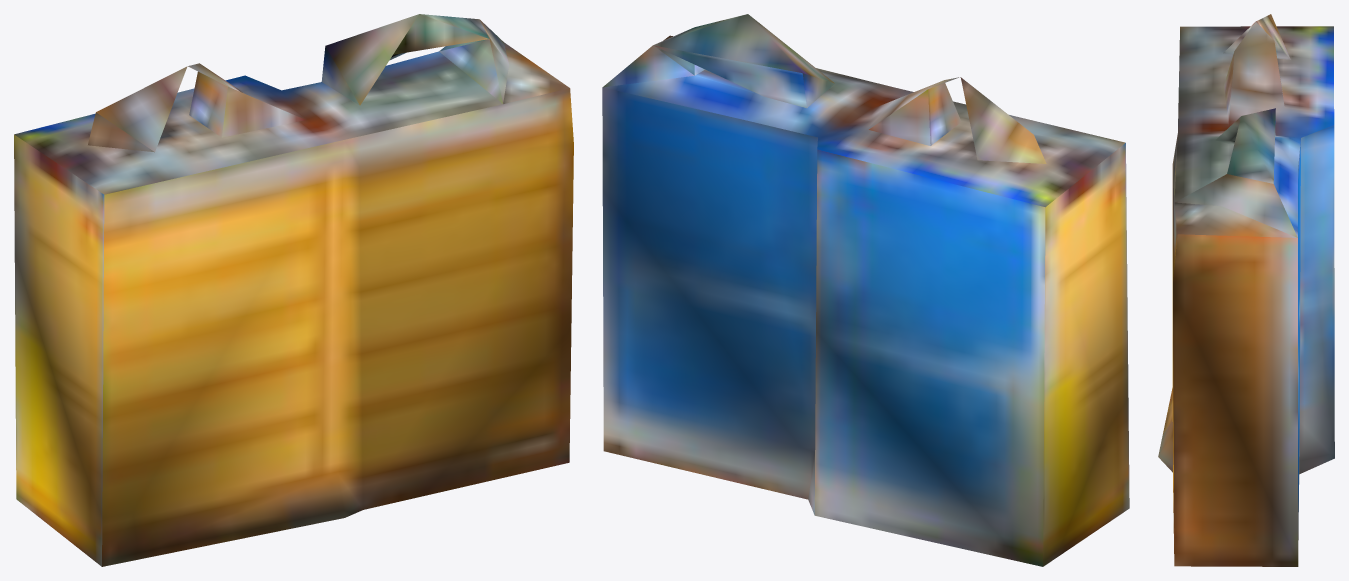
The model's file is recyclebin.fbx.
3 renders of one model, left to right at view 1: azimuth 30°, elevation 25°; view 2: azimuth 150°, elevation 25°; view 3: azimuth 270°, elevation 25°, orthographic. The views are drawn at different scales.
Visible parts, largest first — view 1: recyclebin; view 2: recyclebin; view 3: recyclebin.
Boxes of the visible parts, x1,y1,x2,y2 form: recyclebin: (14,14,573,566); recyclebin: (602,14,1129,566); recyclebin: (1158,14,1334,566).
Size of the model in its own units: 82.72 by 81.28 by 30.14.
